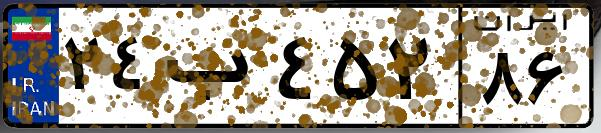2: (385, 28, 445, 110), (57, 26, 110, 100)
4: (270, 28, 330, 110), (110, 28, 158, 98)
5: (330, 28, 385, 110)
6: (525, 38, 570, 115)
8: (475, 38, 525, 113)
ب: (158, 20, 270, 120)
